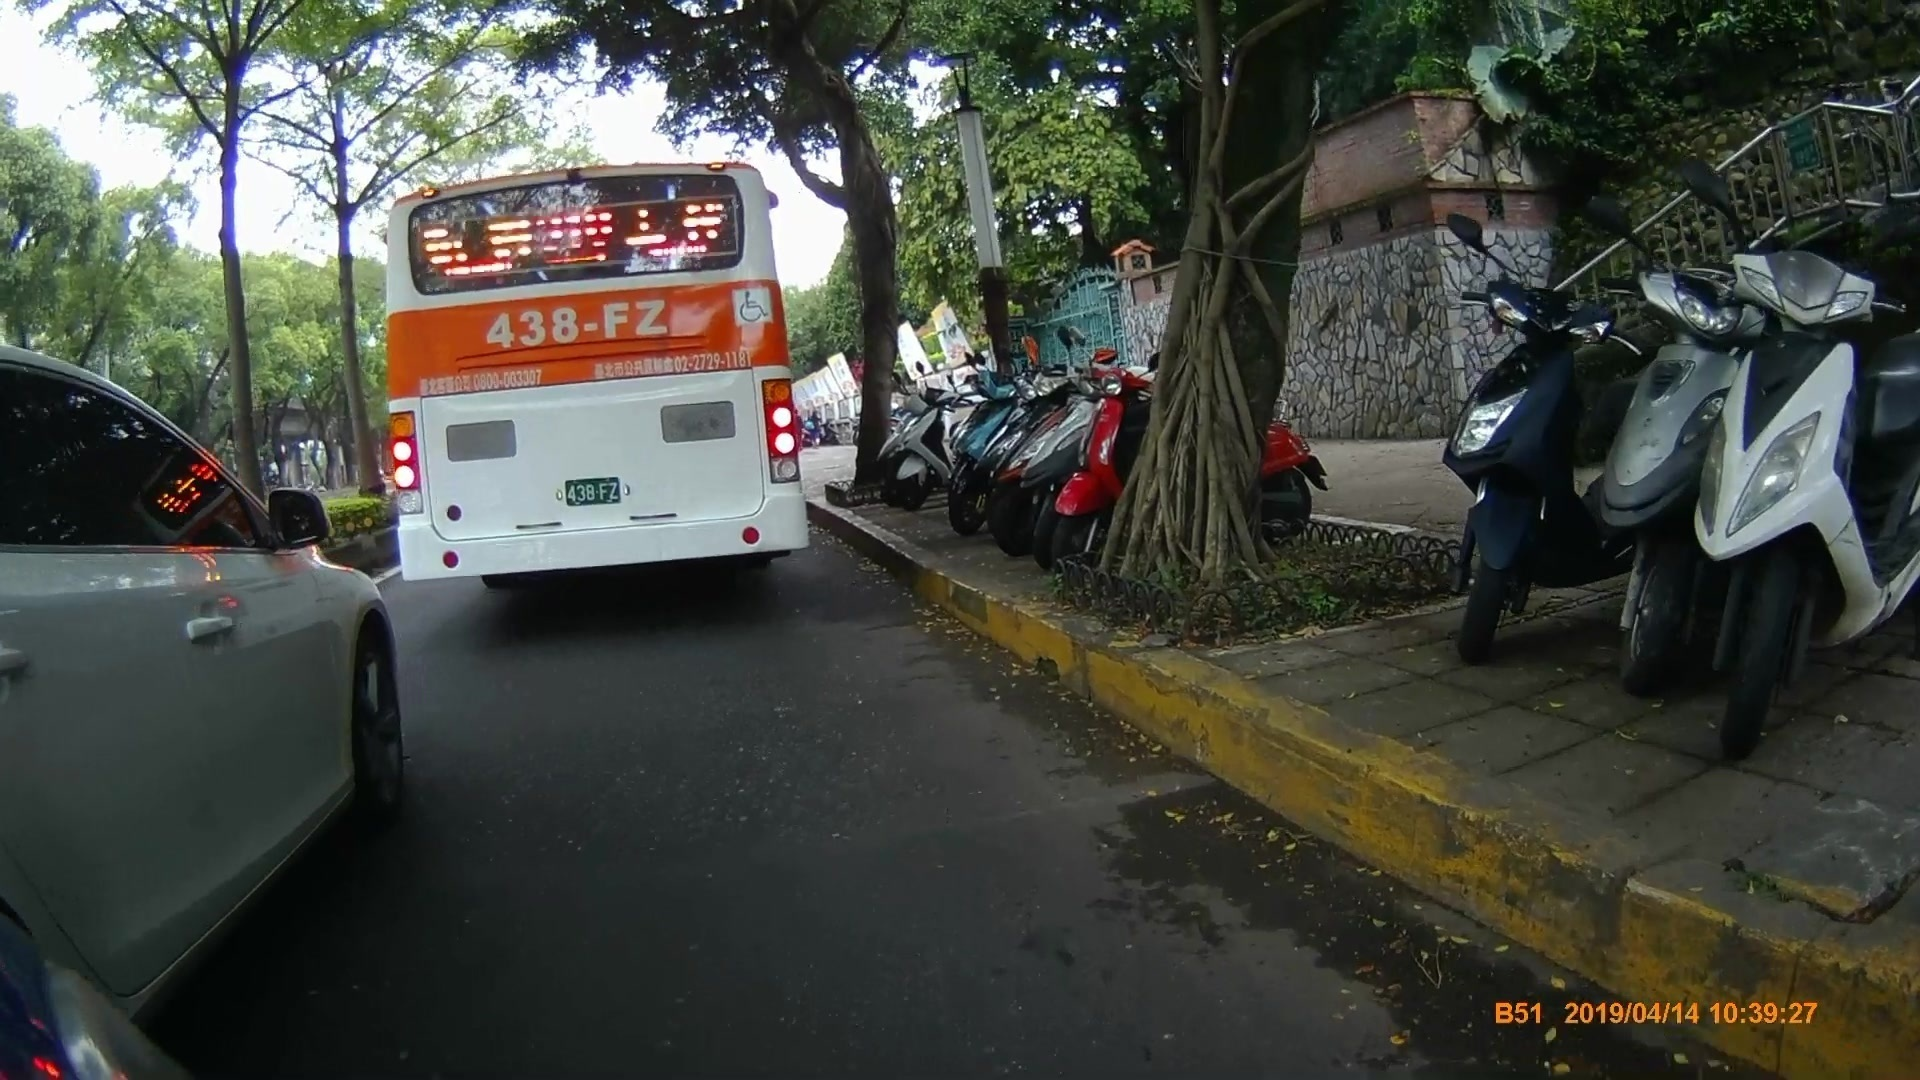License_plate: (565, 476, 623, 505)
